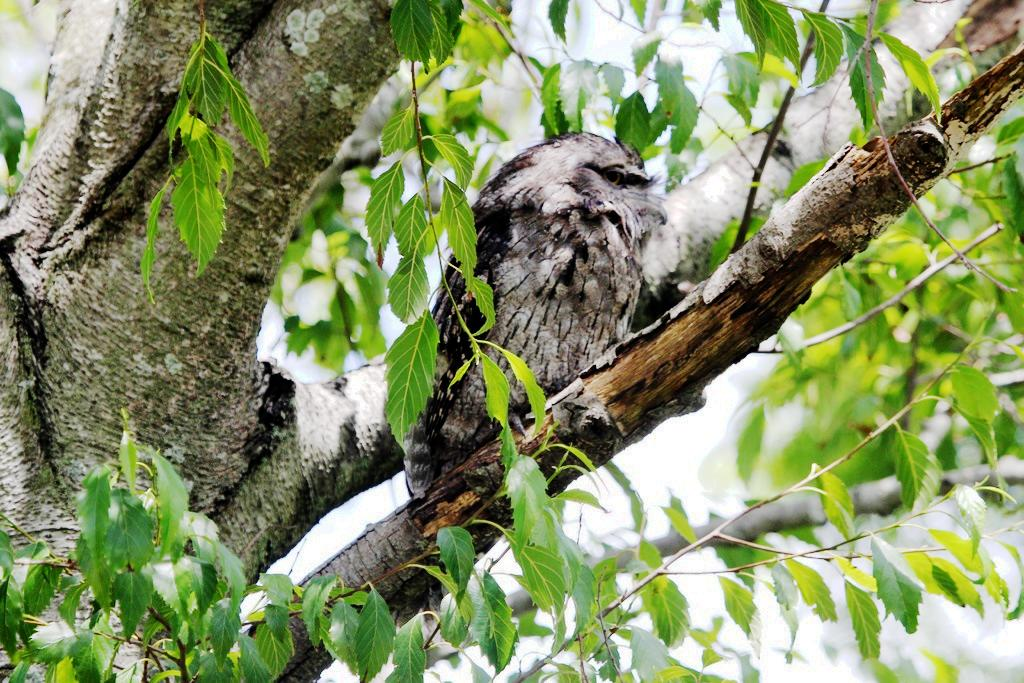Owl: (384, 125, 656, 498)
